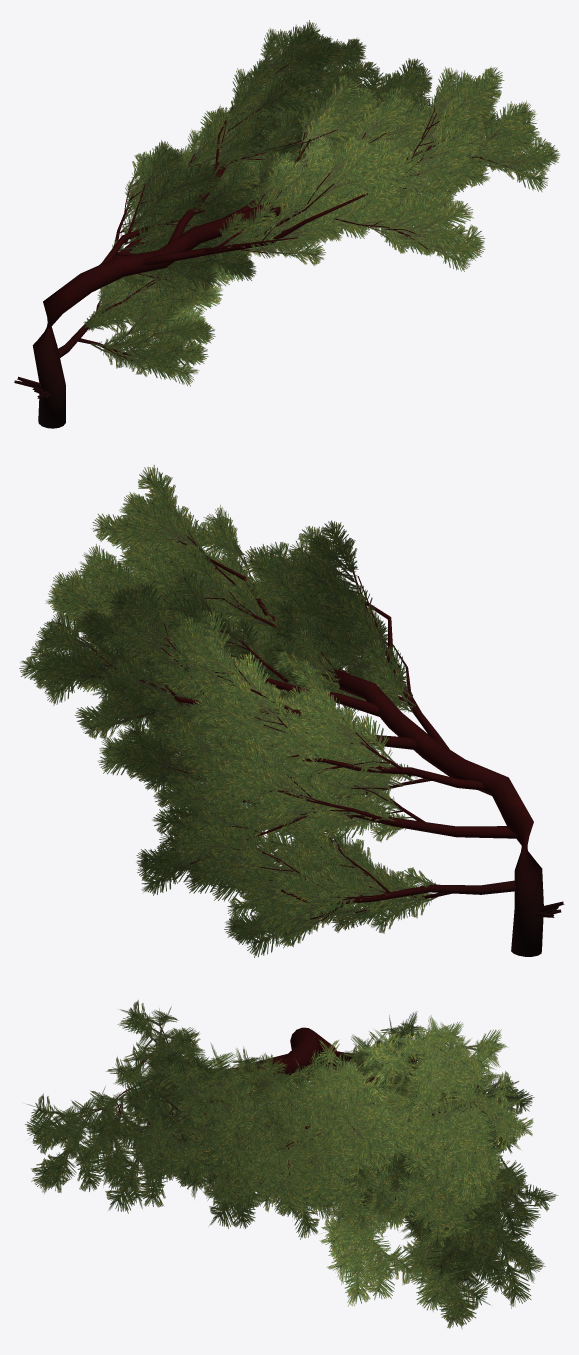
The model's file is krummholz_pine_v03.glb.
3 renders of one model, top to bottom at view 1: azimuth 30°, elevation 25°; view 2: azimuth 150°, elevation 25°; view 3: azimuth 270°, elevation 25°, orthographic. The views are drawn at different scales.
Visible parts, largest first — view 1: krummholz_pine_v03; view 2: krummholz_pine_v03; view 3: krummholz_pine_v03.
Boxes of the visible parts, bbox=[...] form: krummholz_pine_v03: bbox=[14, 20, 560, 428]; krummholz_pine_v03: bbox=[19, 465, 564, 957]; krummholz_pine_v03: bbox=[25, 1000, 558, 1328].
Size of the model in its own units: 4.73 by 3.06 by 3.67.
2 materials, 2 textured.
